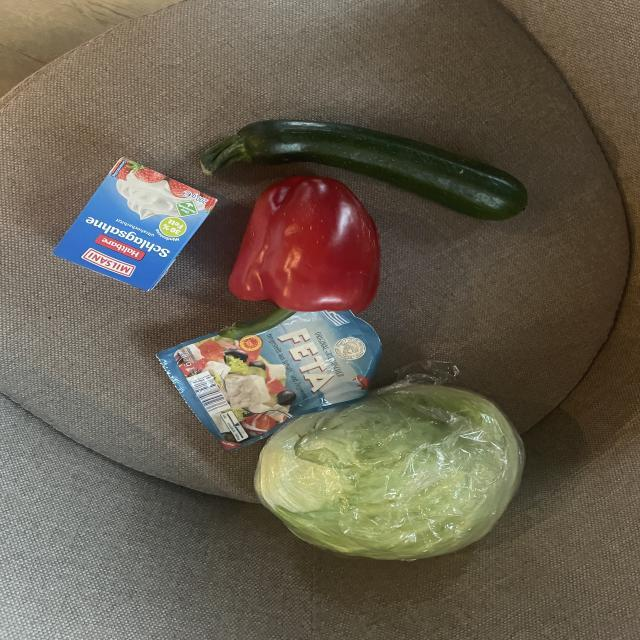bell_pepper: (235, 176, 392, 328)
cabbage: (234, 373, 532, 567)
zucchini: (192, 111, 528, 221)
